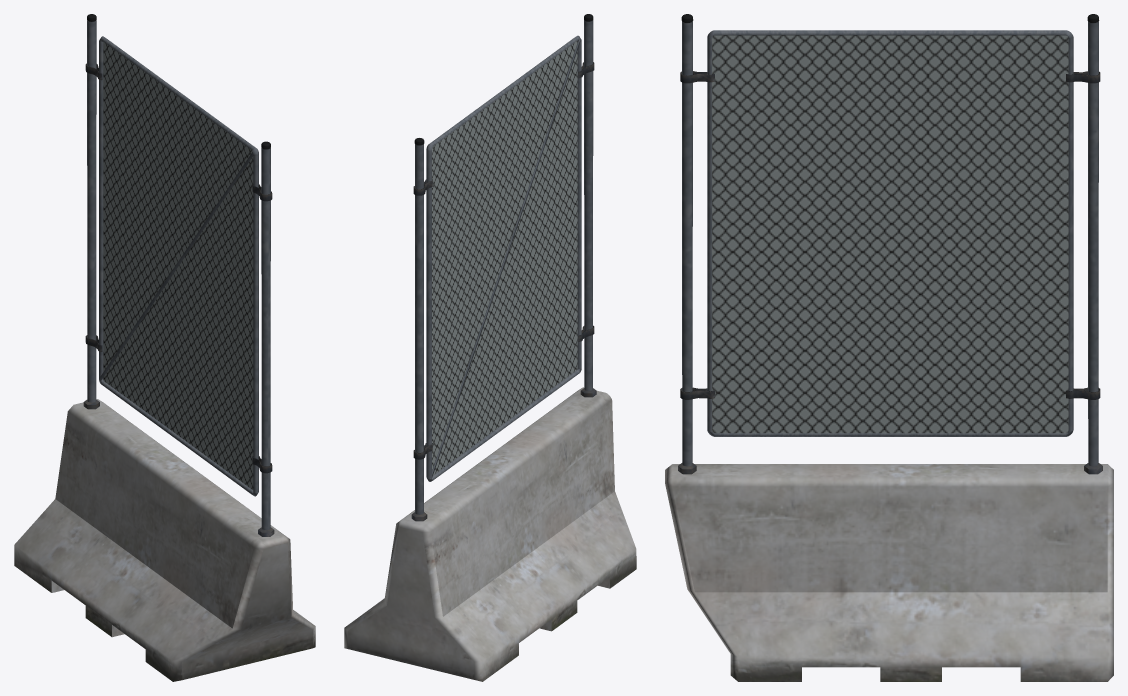
Rendered from Fence_A_C.fbx.
3 views of the same model, side by side, from view 1: azimuth 30°, elevation 25°; view 2: azimuth 150°, elevation 25°; view 3: azimuth 270°, elevation 25° (orthographic). The views are drawn at different scales.
Parts seen in each view (by area): view 1: Fence_A_C; view 2: Fence_A_C; view 3: Fence_A_C.
Boxes of the visible parts, box(x1,y1,x2,y2) form: Fence_A_C: box(14, 14, 315, 681); Fence_A_C: box(344, 14, 636, 681); Fence_A_C: box(665, 14, 1113, 681).
Size of the model in its own units: 80 by 288 by 187.
